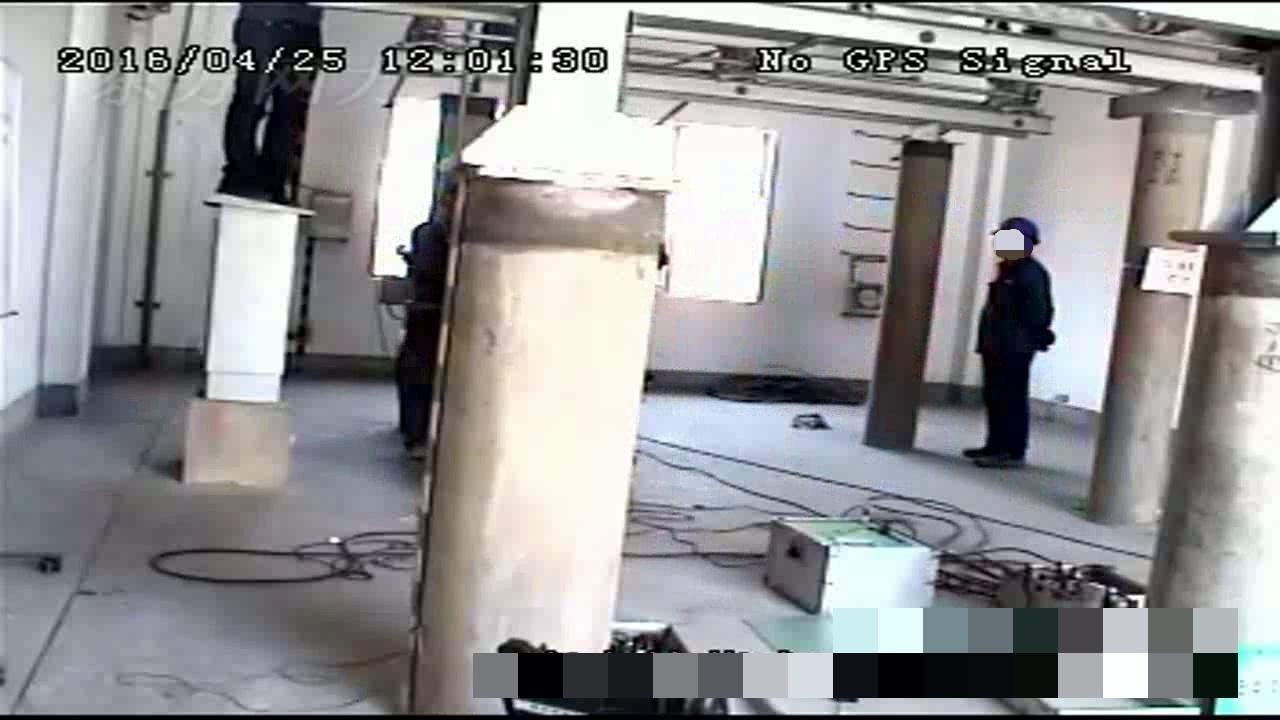hat: (992, 217, 1040, 259)
person: (963, 215, 1055, 470), (216, 0, 327, 210)
